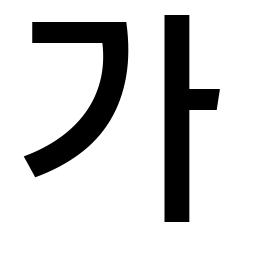Gaji: (152, 78, 207, 128)
